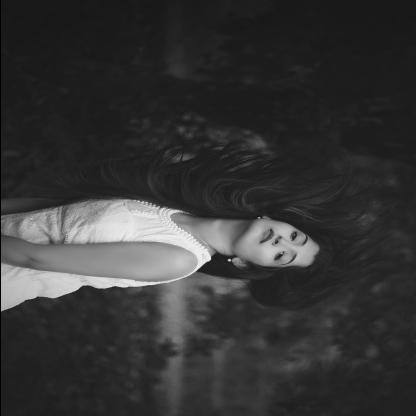Eye: (272, 250, 288, 262), (288, 229, 302, 242)
Mouth: (256, 226, 276, 245)
Nose: (270, 236, 290, 247)
